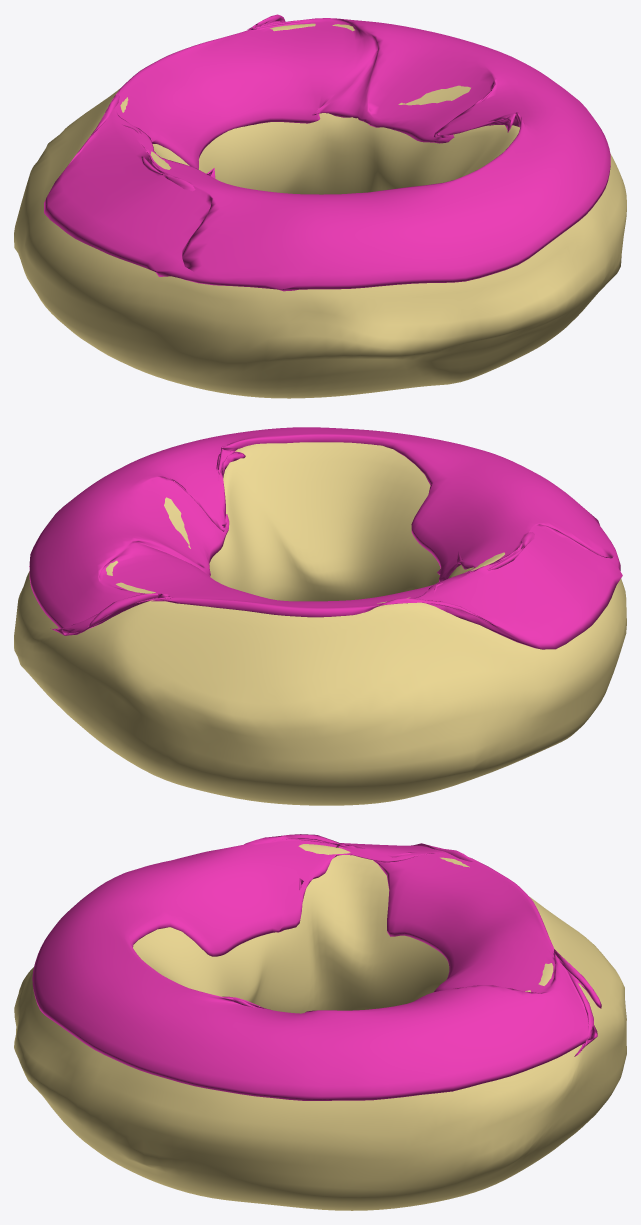
3 renders of one model, top to bottom at view 1: azimuth 30°, elevation 25°; view 2: azimuth 150°, elevation 25°; view 3: azimuth 270°, elevation 25°, orthographic.
Visible parts, largest first — view 1: Icing, Donut; view 2: Donut, Icing; view 3: Donut, Icing.
Boxes of the visible parts, x1,y1,x2,y2 form: Icing: [44, 14, 610, 291]; Donut: [14, 23, 626, 398]; Donut: [14, 442, 626, 805]; Icing: [29, 427, 622, 649]; Donut: [14, 844, 626, 1210]; Icing: [32, 834, 601, 1100].
Size of what is drawn, in the model's own units: 0.146 by 0.0513 by 0.1462.
